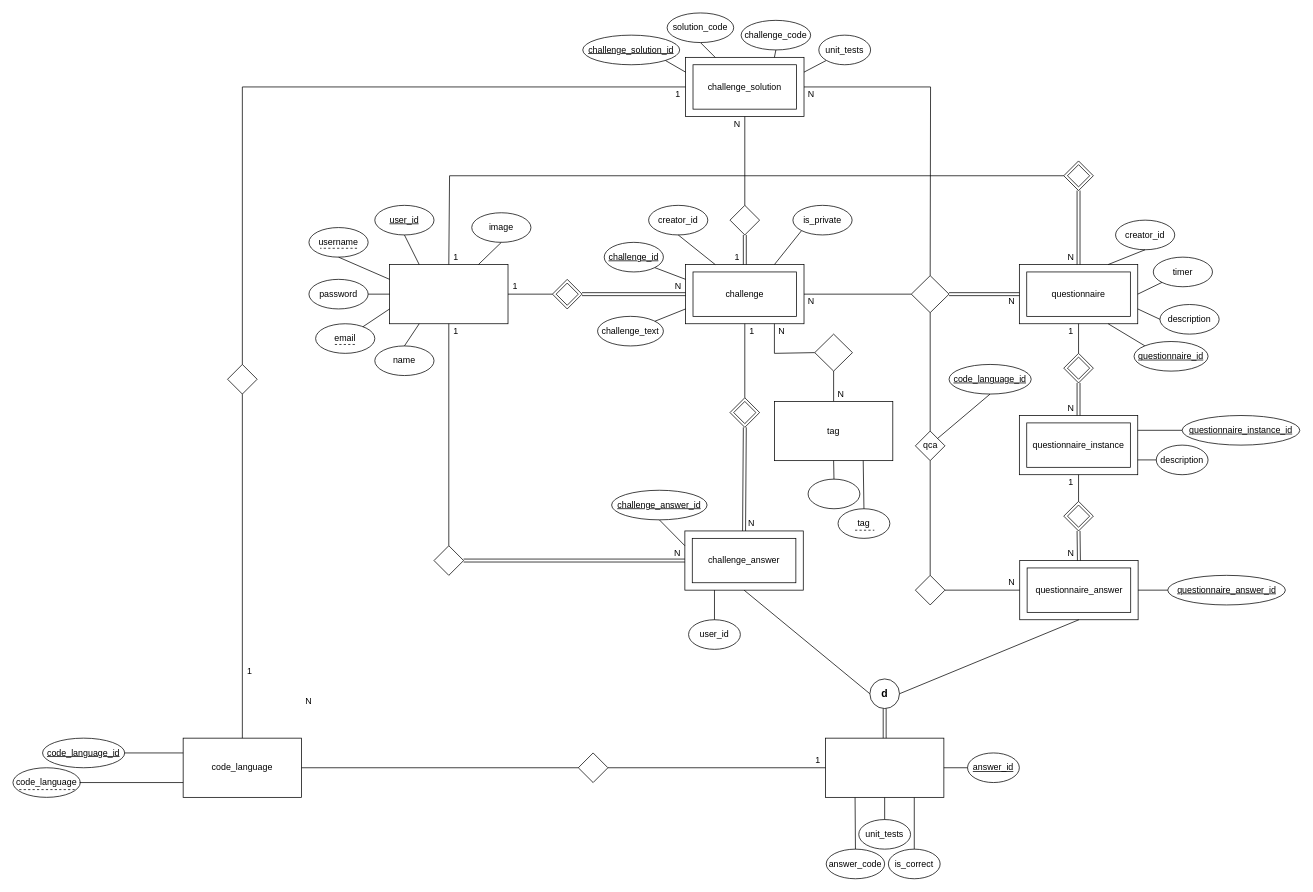
The diagram is 1313 pixels wide and 892 high, and some of its shapes have lost their labels. Here are the shapes that lost their labels. From the top down, the centre of each, then its label:
point (448, 294): app_user
point (930, 294): qc
point (833, 352): CT
point (833, 493): tag_id
point (884, 767): answer
